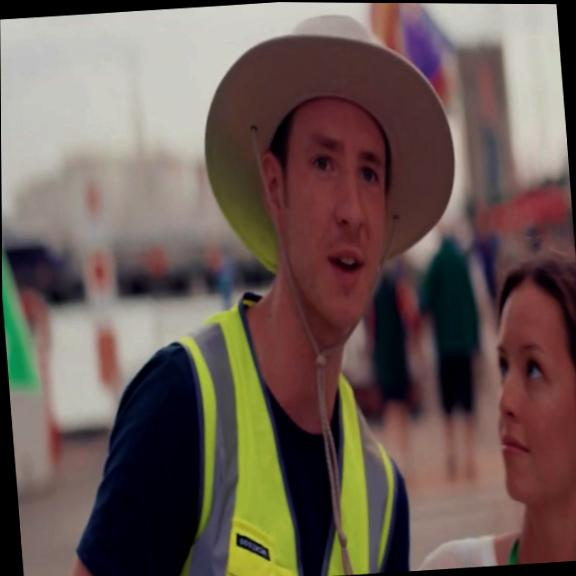safety_vest: (129, 277, 405, 576)
